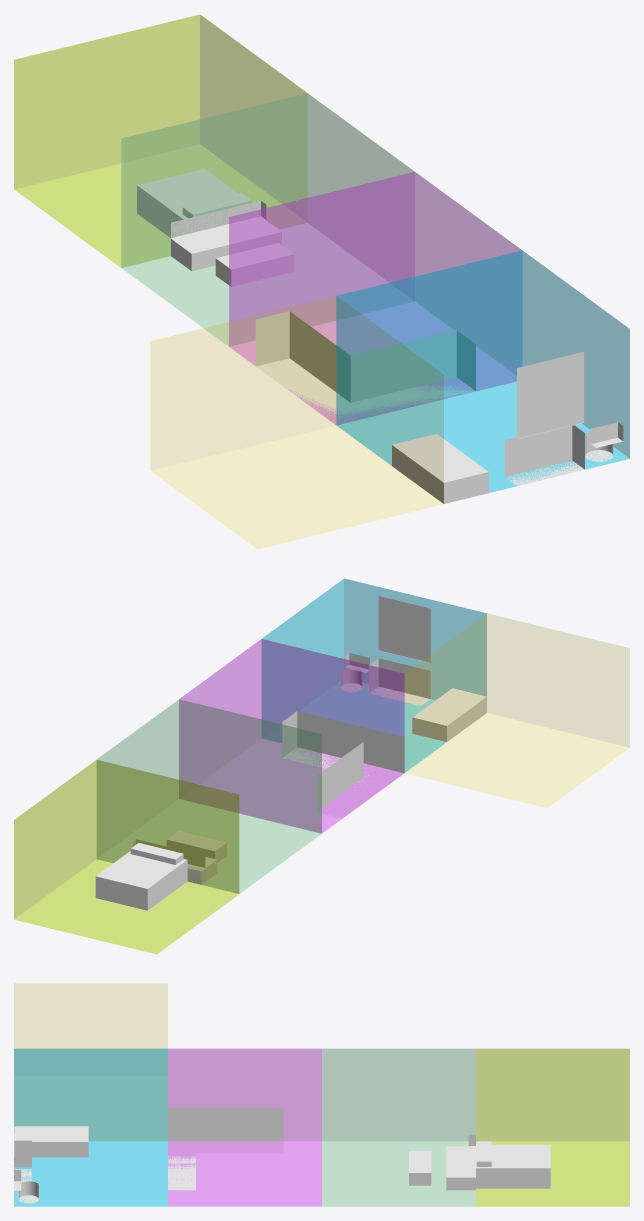
3 views of the same model, one above another, from view 1: azimuth 30°, elevation 25°; view 2: azimuth 150°, elevation 25°; view 3: azimuth 270°, elevation 25° (orthographic). The views are drawn at different scales.
Visible parts, largest first — view 1: Mesh (×14); view 2: Mesh (×12); view 3: Mesh (×14).
Part boxes in pixels (<box>): Mesh (×14): <box>14,14,629,548</box>; Mesh (×12): <box>14,578,629,954</box>; Mesh (×14): <box>14,984,629,1206</box>.
Size of the model in its own units: 8260 by 2750 by 16520.
